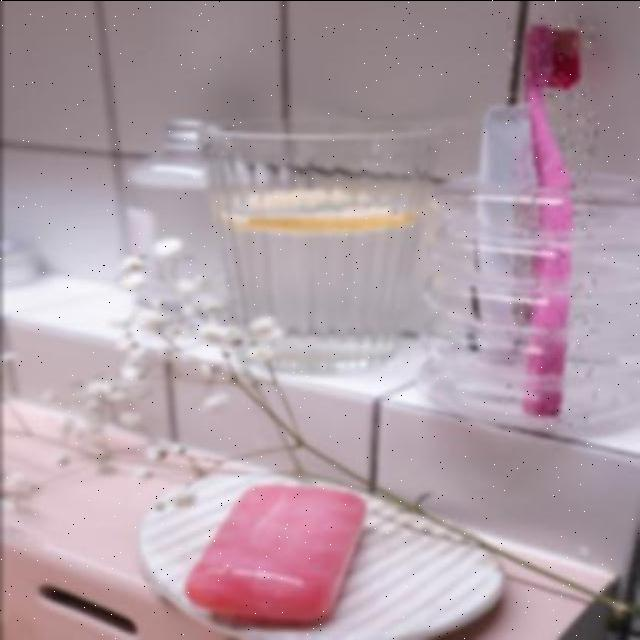toothbrush: (506, 16, 596, 424)
